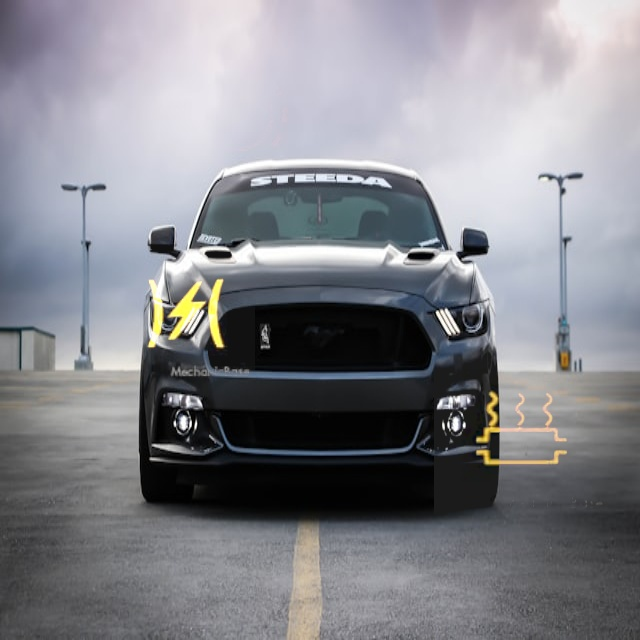symbol: (434, 341, 610, 517), (165, 44, 310, 189), (117, 245, 255, 383)
